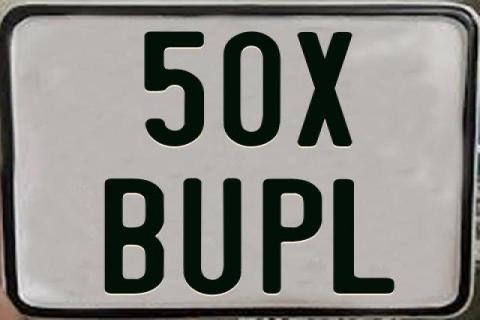0: (222, 30, 284, 148), (141, 29, 201, 145)
B: (104, 179, 169, 297)
L: (330, 179, 392, 295)
P: (261, 177, 326, 293)
U: (182, 177, 242, 296)
X: (294, 30, 355, 146)
